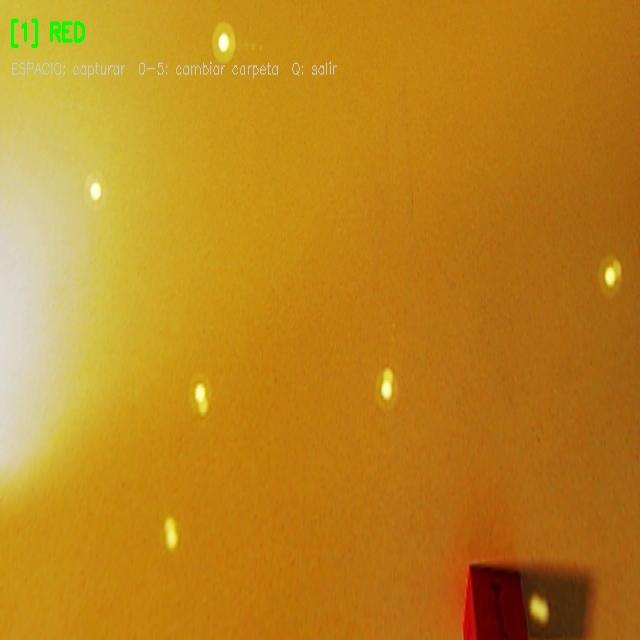red: (464, 564, 526, 639)
